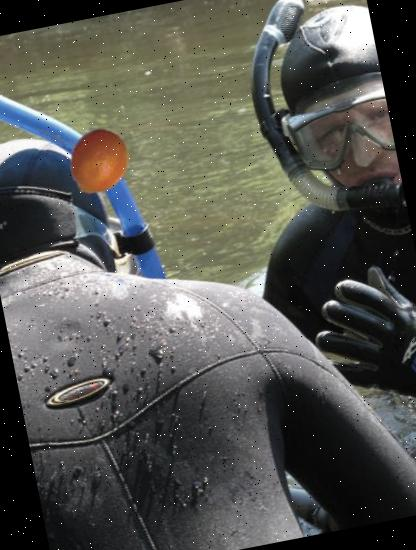Tangelo: (58, 122, 138, 202)
